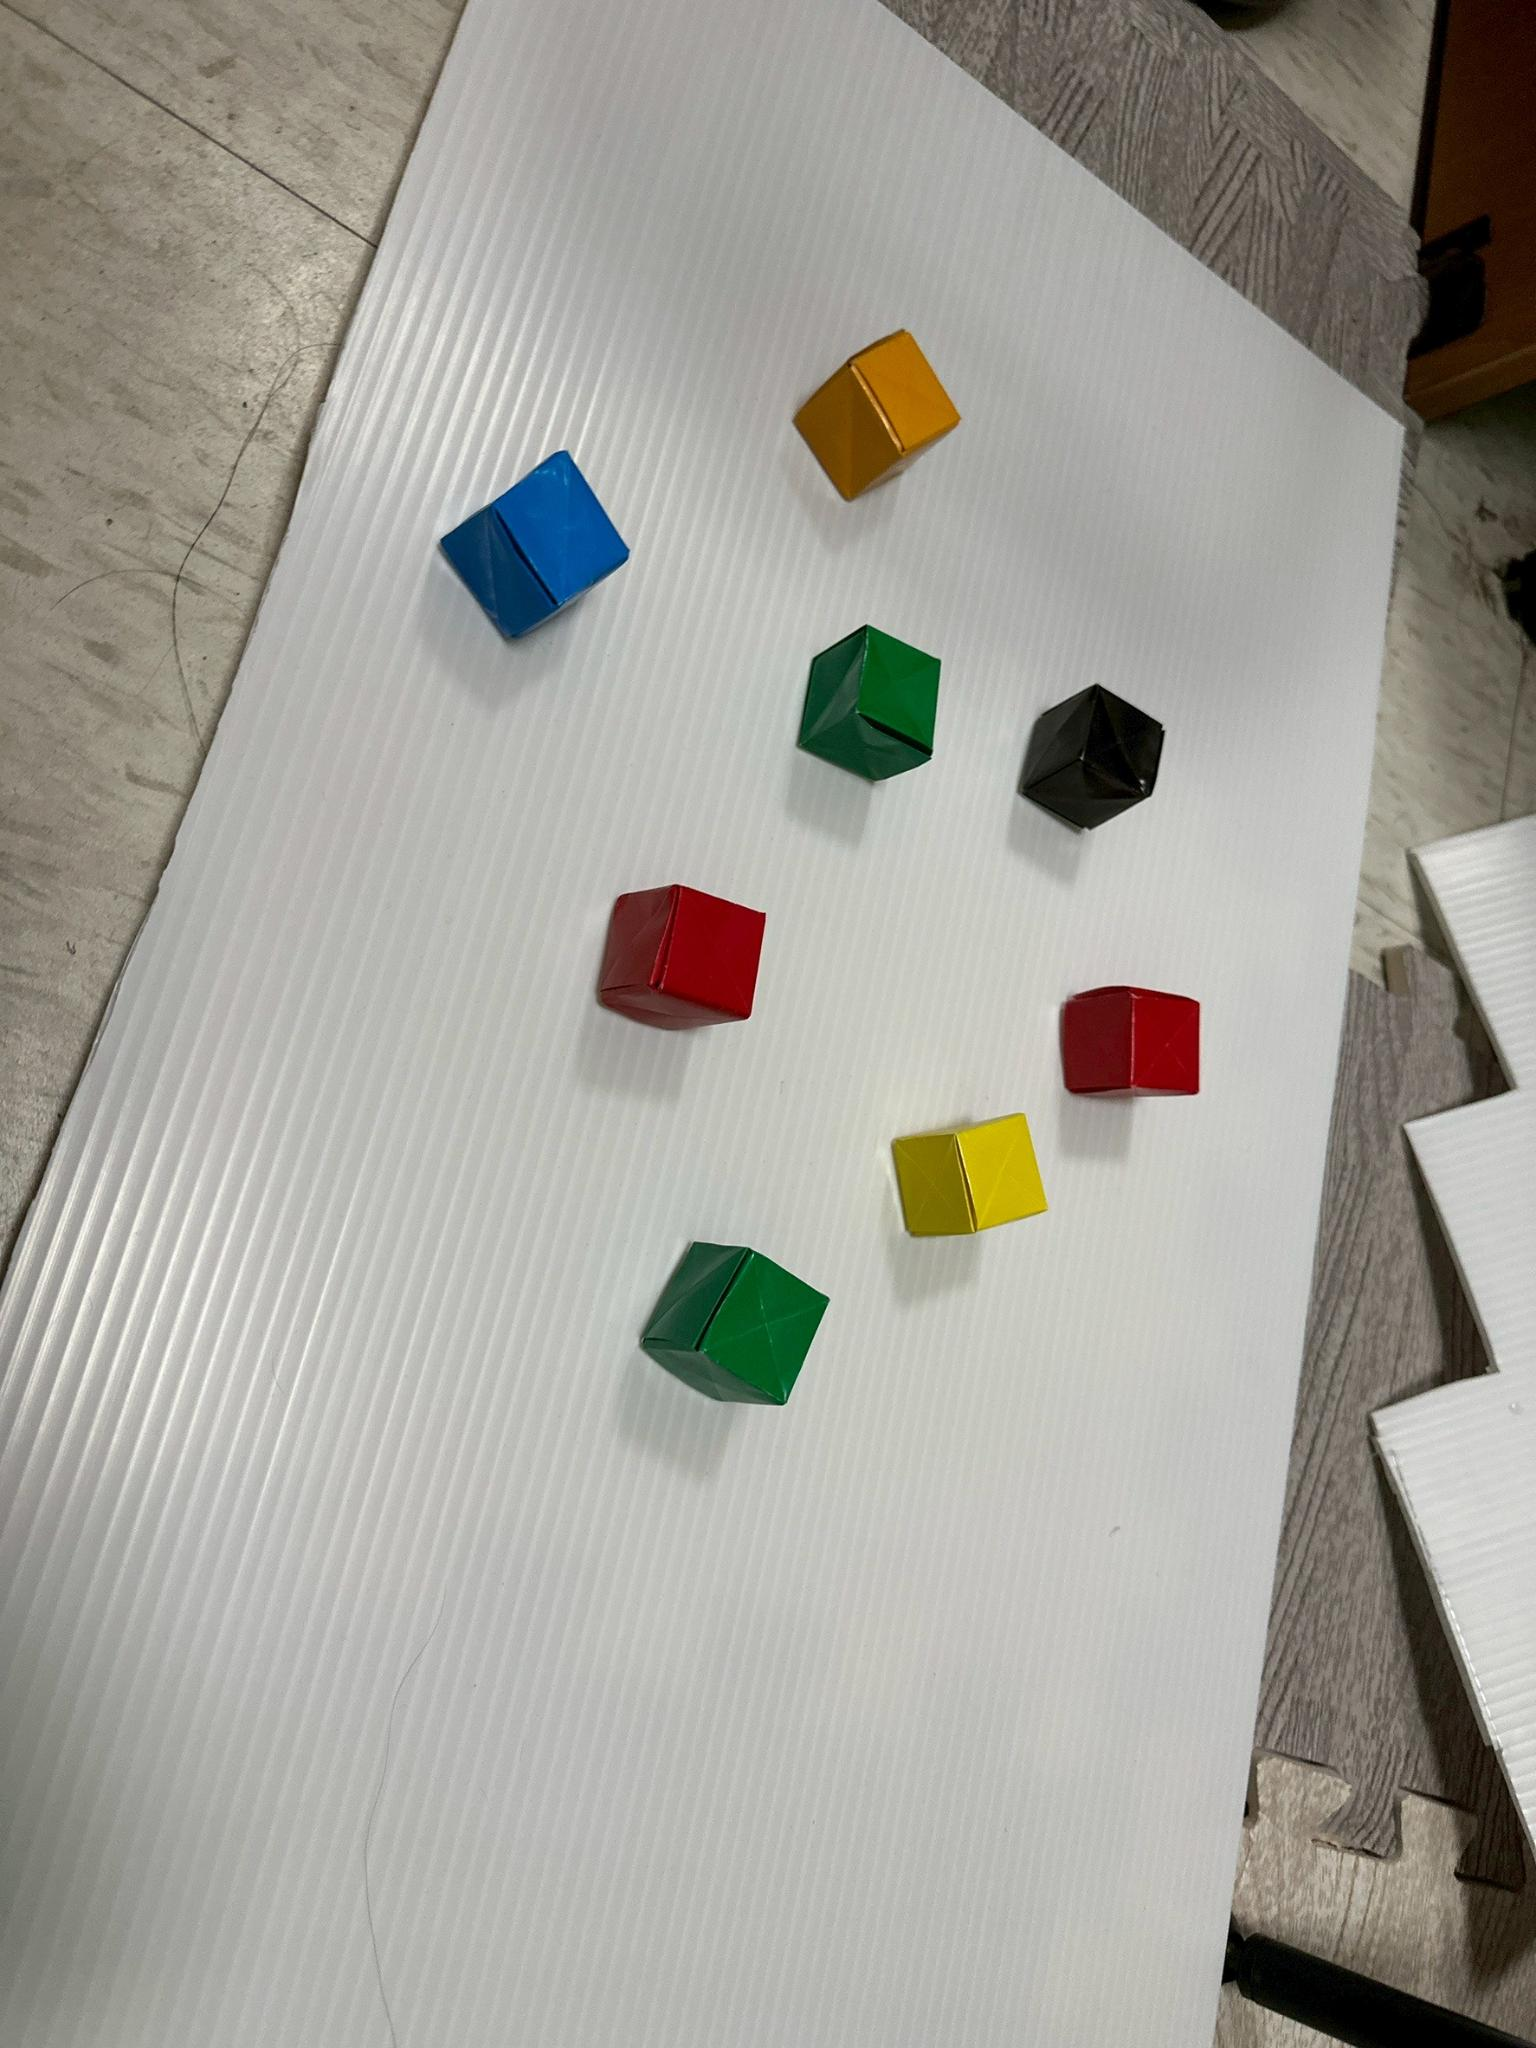base: (440, 450, 629, 637), (641, 1242, 828, 1405), (794, 331, 958, 500), (597, 885, 765, 1027), (797, 626, 941, 780), (1020, 684, 1165, 829), (892, 1114, 1046, 1237), (1060, 987, 1200, 1095)
